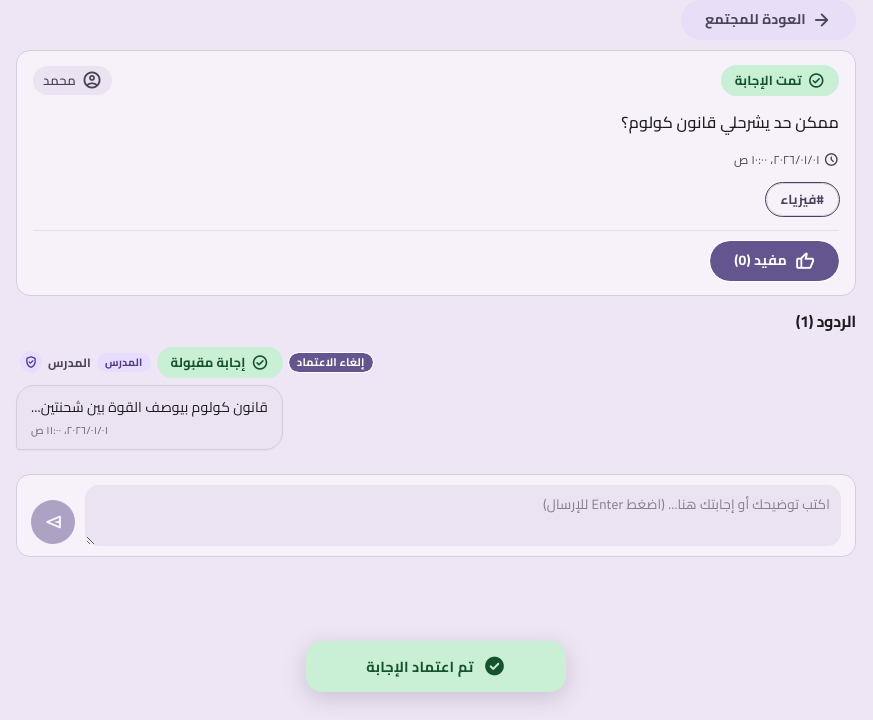
Scenario: DiscussionDetailPage › lets the question author unaccept an accepted reply
The image size is (873, 720).
Expected: the text "إجابة مقبولة" is shown, [157,347,283,378]
Click the button "إلغاء الاعتماد": (331, 362) [289,353,373,372]
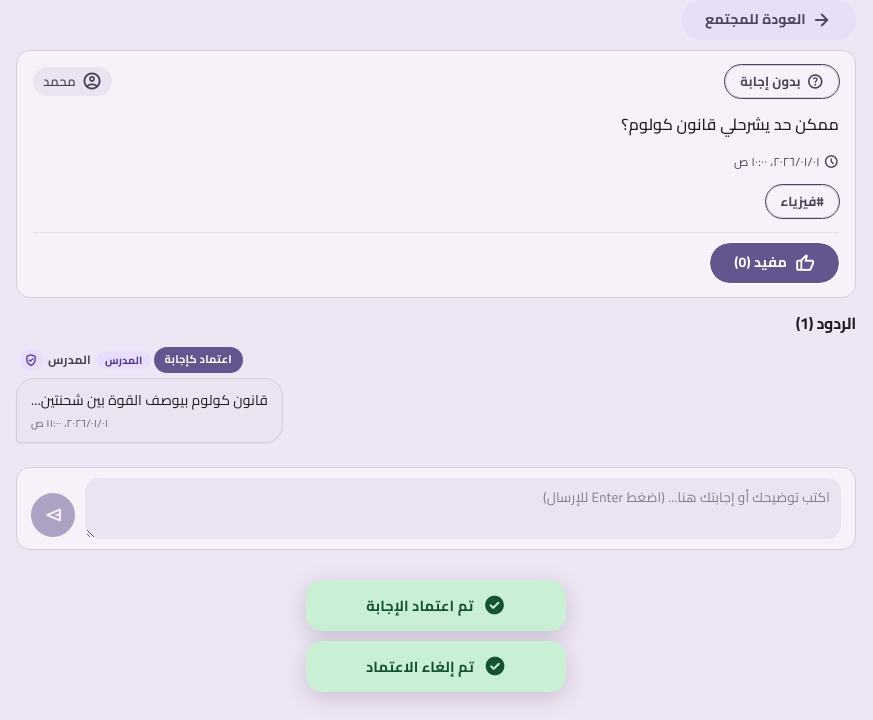
Result: the button "اعتماد كإجابة" is shown at [157,350,240,370]
